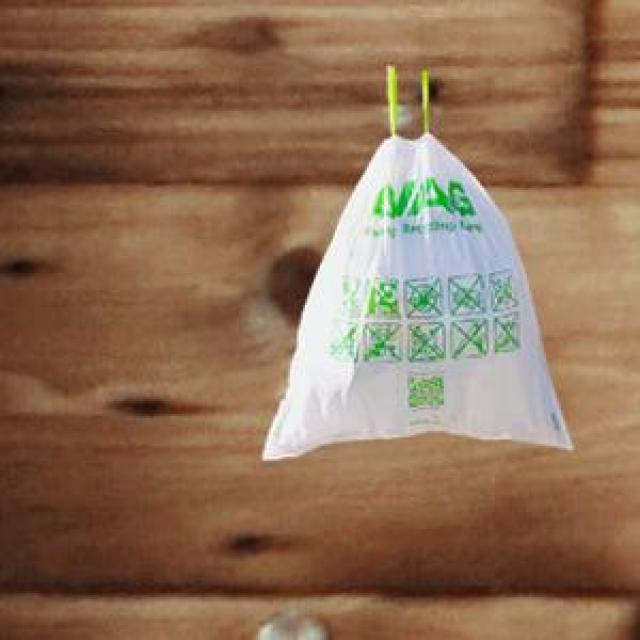plastic: (250, 45, 599, 493)
